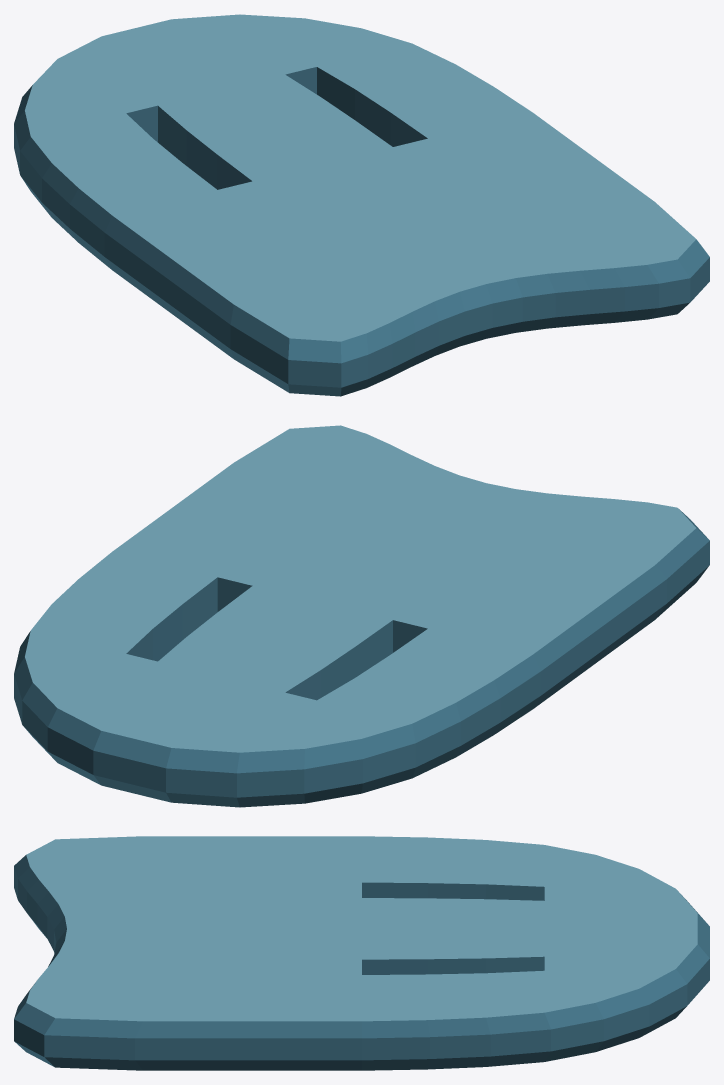
3 views of the same model, one above another, from view 1: azimuth 30°, elevation 25°; view 2: azimuth 150°, elevation 25°; view 3: azimuth 270°, elevation 25° (orthographic). The views are drawn at different scales.
Parts seen in each view (by area): view 1: WholeRoundedNoseTwinGripSlotBoard; view 2: WholeRoundedNoseTwinGripSlotBoard; view 3: WholeRoundedNoseTwinGripSlotBoard.
Part boxes in pixels (bbox=[...]): WholeRoundedNoseTwinGripSlotBoard: bbox=[14, 14, 709, 396]; WholeRoundedNoseTwinGripSlotBoard: bbox=[14, 425, 709, 807]; WholeRoundedNoseTwinGripSlotBoard: bbox=[14, 836, 709, 1070].
Size of the model in its own units: 0.3 by 0.036 by 0.46.
